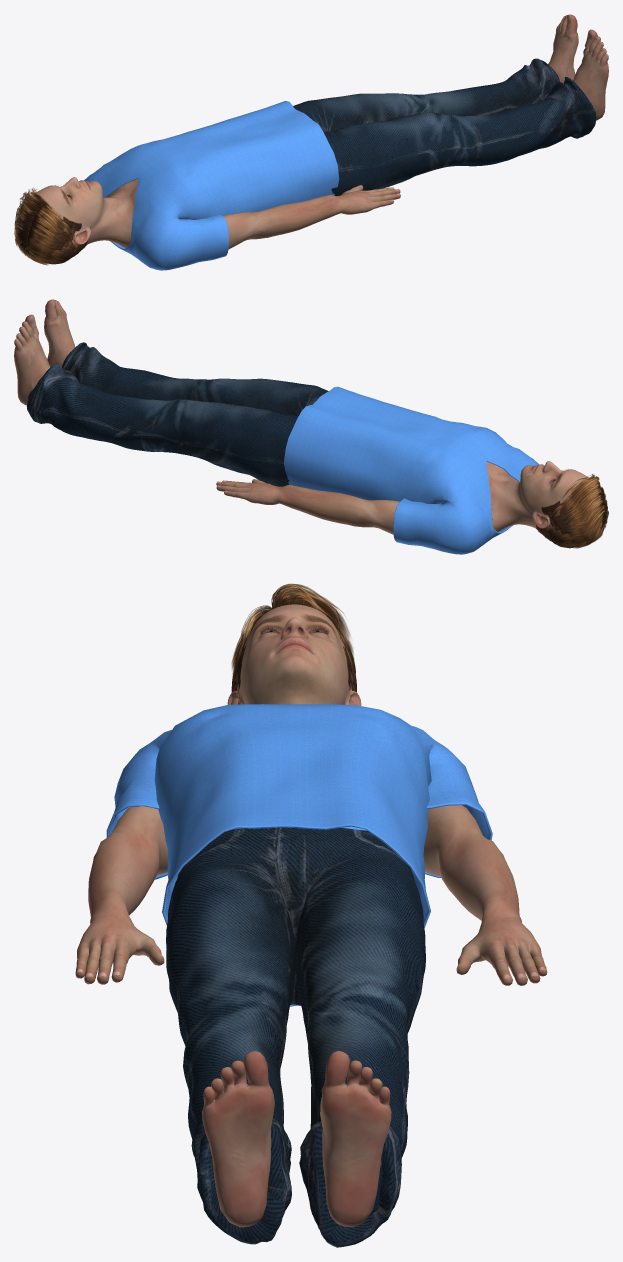
File: adult_male.glb
3 renders of one model, top to bottom at view 1: azimuth 30°, elevation 25°; view 2: azimuth 150°, elevation 25°; view 3: azimuth 270°, elevation 25°, orthographic. The views are drawn at different scales.
Visible parts, largest first — view 1: V_Neck_Scrub_Shirt, Jeans, CC_Base_Body, Hair; view 2: V_Neck_Scrub_Shirt, Jeans, CC_Base_Body, Hair; view 3: Jeans, CC_Base_Body, V_Neck_Scrub_Shirt, Hair.
Boxes of the visible parts, <box> form: V_Neck_Scrub_Shirt: <box>84,101,339,270</box>; Jeans: <box>293,58,596,195</box>; CC_Base_Body: <box>35,14,608,249</box>; Hair: <box>14,187,87,265</box>; V_Neck_Scrub_Shirt: <box>283,386,538,554</box>; Jeans: <box>26,342,328,486</box>; CC_Base_Body: <box>14,299,588,534</box>; Hair: <box>536,474,608,548</box>; Jeans: <box>166,827,425,1247</box>; CC_Base_Body: <box>75,604,547,1227</box>; V_Neck_Scrub_Shirt: <box>106,704,492,1006</box>; Hair: <box>231,583,356,692</box>.
Bounding box in the file's own units: 1.95 × 0.3844 × 0.6988.
Materials: 15 (15 with a texture image).
